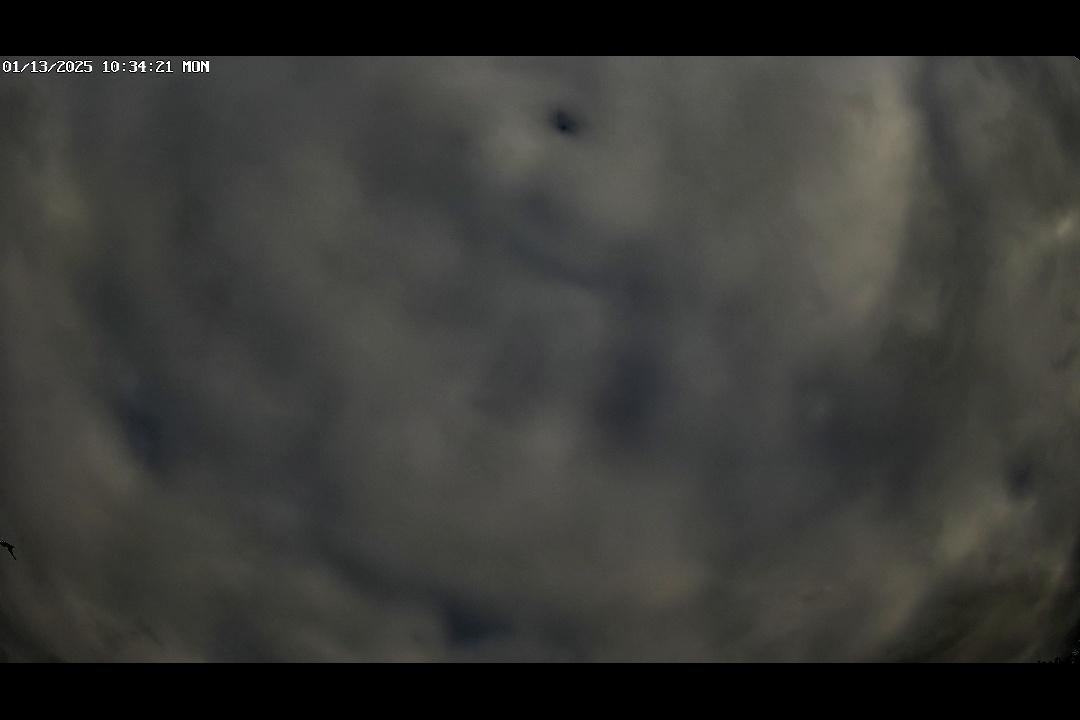WildLife: (0, 533, 41, 564)
